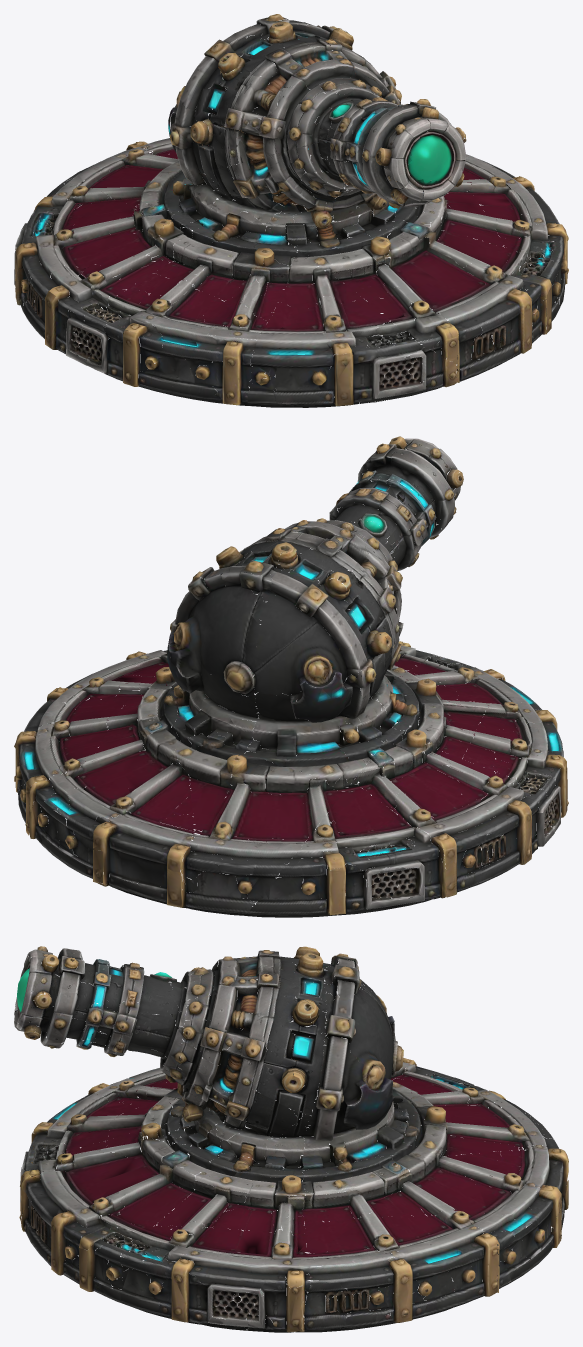
The model's file is warrior-4-tier-2.glb.
3 views of the same model, one above another, from view 1: azimuth 30°, elevation 25°; view 2: azimuth 150°, elevation 25°; view 3: azimuth 270°, elevation 25° (orthographic).
Parts seen in each view (by area): view 1: fixed-platform, moving-assembly; view 2: fixed-platform, moving-assembly; view 3: fixed-platform, moving-assembly.
Boxes of the visible parts, x1,y1,x2,y2 form: fixed-platform: (14,126,568,407); moving-assembly: (168,14,466,228); fixed-platform: (14,641,568,917); moving-assembly: (167,436,463,736); fixed-platform: (19,1050,568,1332); moving-assembly: (14,946,403,1153).
Size of the model in its own units: 0.8324 by 0.4589 by 0.8327.
Materials: 2 (2 with a texture image).
